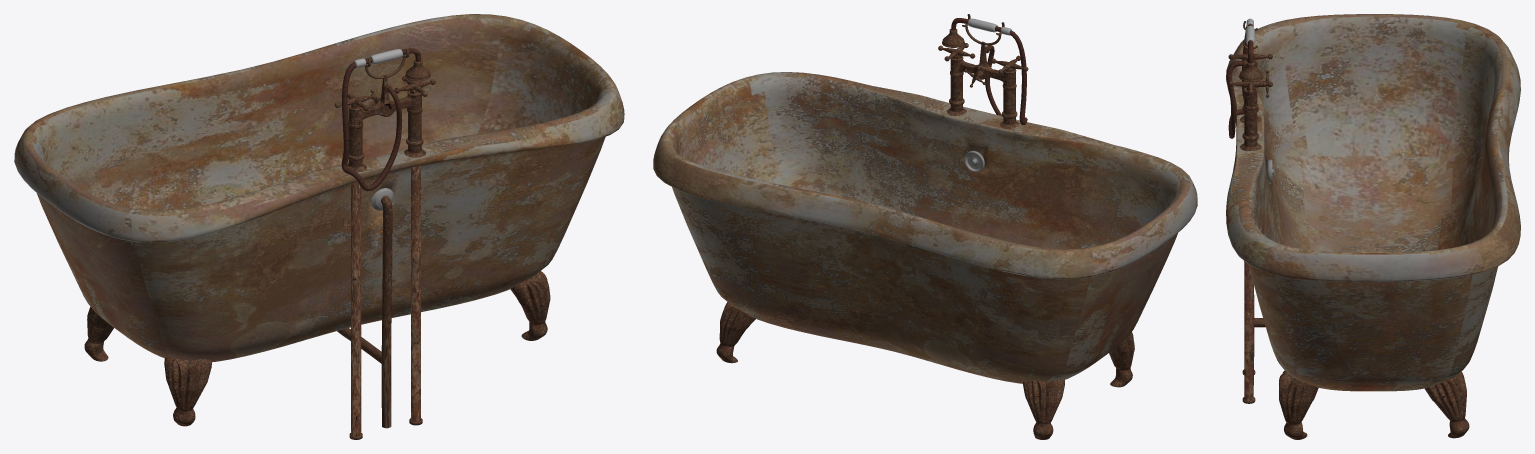
File: obj_bath_0ce49e.glb
3 views of the same model, side by side, from view 1: azimuth 30°, elevation 25°; view 2: azimuth 150°, elevation 25°; view 3: azimuth 270°, elevation 25° (orthographic). The views are drawn at different scales.
Parts seen in each view (by area): view 1: obj_bath_0ce49e; view 2: obj_bath_0ce49e; view 3: obj_bath_0ce49e.
Boxes of the visible parts, bbox=[...] form: obj_bath_0ce49e: bbox=[14, 14, 624, 439]; obj_bath_0ce49e: bbox=[653, 14, 1197, 439]; obj_bath_0ce49e: bbox=[1226, 14, 1520, 439].
Size of the model in its own units: 1.7 by 1.15 by 0.8569.
12 materials, 11 textured.
